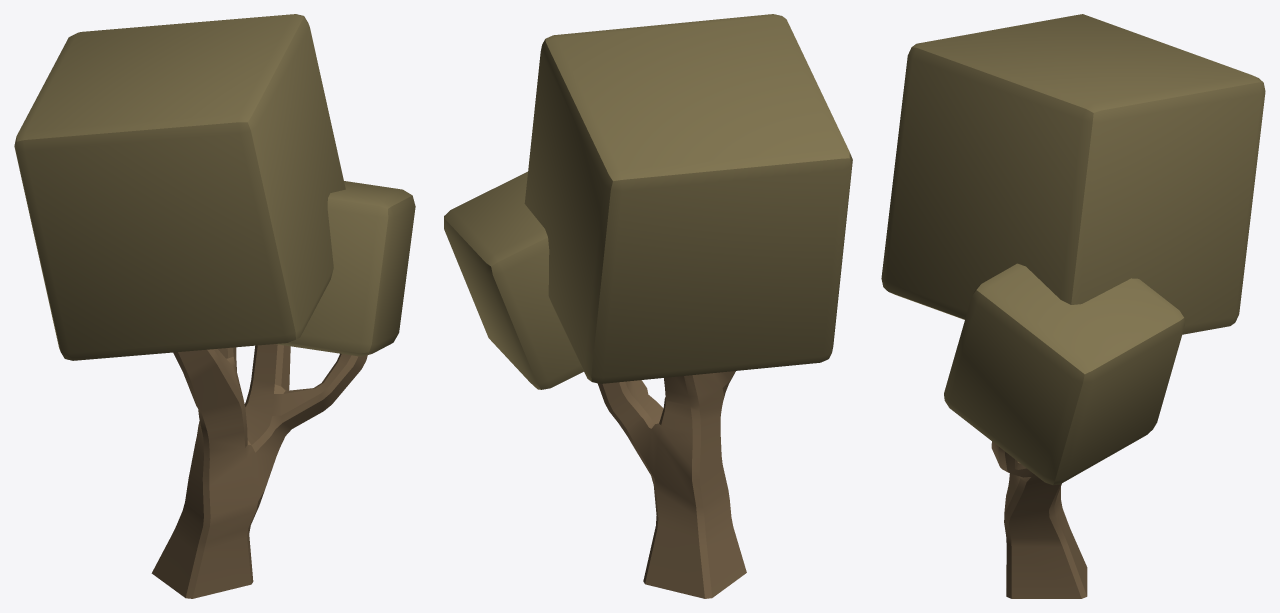
File: Tree_2.glb
3 views of the same model, side by side, from view 1: azimuth 30°, elevation 25°; view 2: azimuth 150°, elevation 25°; view 3: azimuth 270°, elevation 25° (orthographic). The views are drawn at different scales.
Parts seen in each view (by area): view 1: Tree_2; view 2: Tree_2; view 3: Tree_2.
Part boxes in pixels (<box>): Tree_2: <box>14,14,415,598</box>; Tree_2: <box>444,14,852,598</box>; Tree_2: <box>881,14,1265,598</box>.
Size of the model in its own units: 5.35 by 6.65 by 4.32.
1 material, 1 textured.
